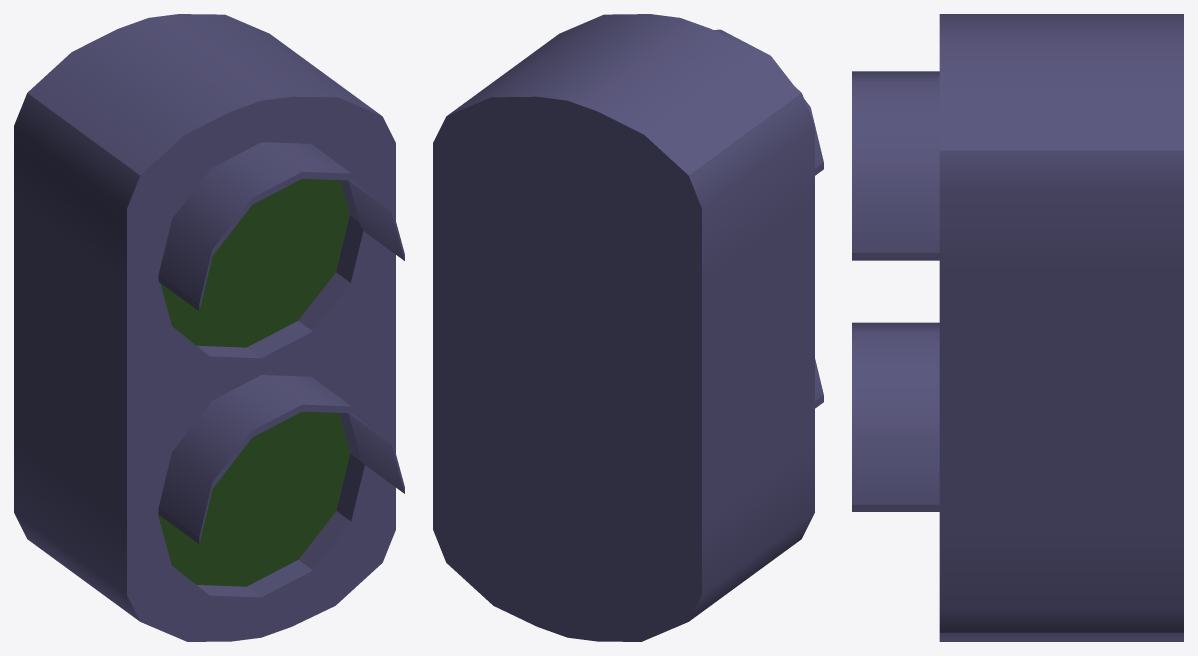
File: StartLight.fbx
3 renders of one model, left to right at view 1: azimuth 30°, elevation 25°; view 2: azimuth 150°, elevation 25°; view 3: azimuth 270°, elevation 25°, orthographic. The views are drawn at different scales.
Visible parts, largest first — view 1: LightBody, EmissionTop, EmissionBot, CurveTop, CurveBot; view 2: LightBody, CurveTop; view 3: LightBody, CurveBot, CurveTop.
Boxes of the visible parts, box(x1,y1,x2,y2) form: LightBody: box(14, 14, 395, 641); EmissionTop: box(158, 411, 350, 586); EmissionBot: box(160, 178, 349, 347); CurveTop: box(158, 142, 404, 310); CurveBot: box(158, 375, 404, 543); LightBody: box(433, 14, 814, 641); CurveTop: box(714, 29, 823, 175); LightBody: box(939, 14, 1183, 641); CurveBot: box(852, 322, 939, 511); CurveTop: box(852, 71, 939, 260).
Size of the model in its own units: 0.8105 by 1.55 by 0.802.
